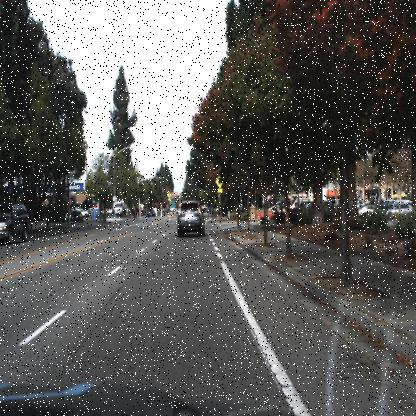car: (0, 199, 32, 248), (277, 194, 327, 222), (174, 197, 205, 240), (69, 206, 85, 224), (67, 209, 84, 224), (145, 203, 158, 220)
truck: (113, 197, 128, 221)
